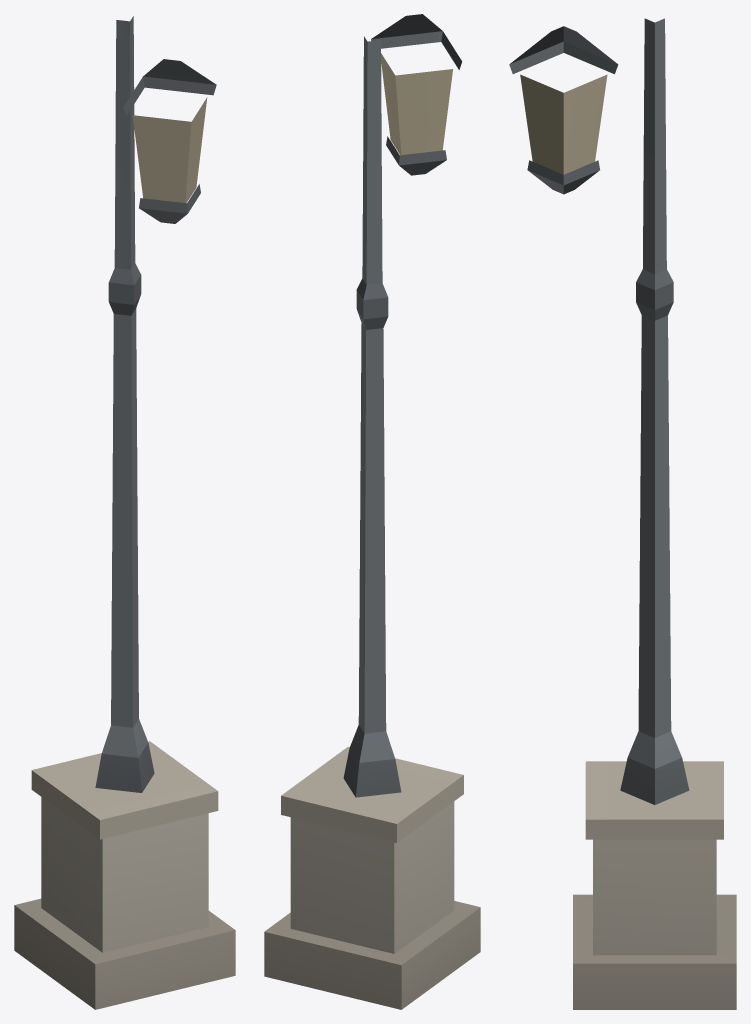
Rendered from lamp.lod1.glb.
3 views of the same model, side by side, from view 1: azimuth 30°, elevation 25°; view 2: azimuth 150°, elevation 25°; view 3: azimuth 270°, elevation 25° (orthographic). The views are drawn at different scales.
Size of the model in its own units: 0.45 by 2.9 by 0.625.
